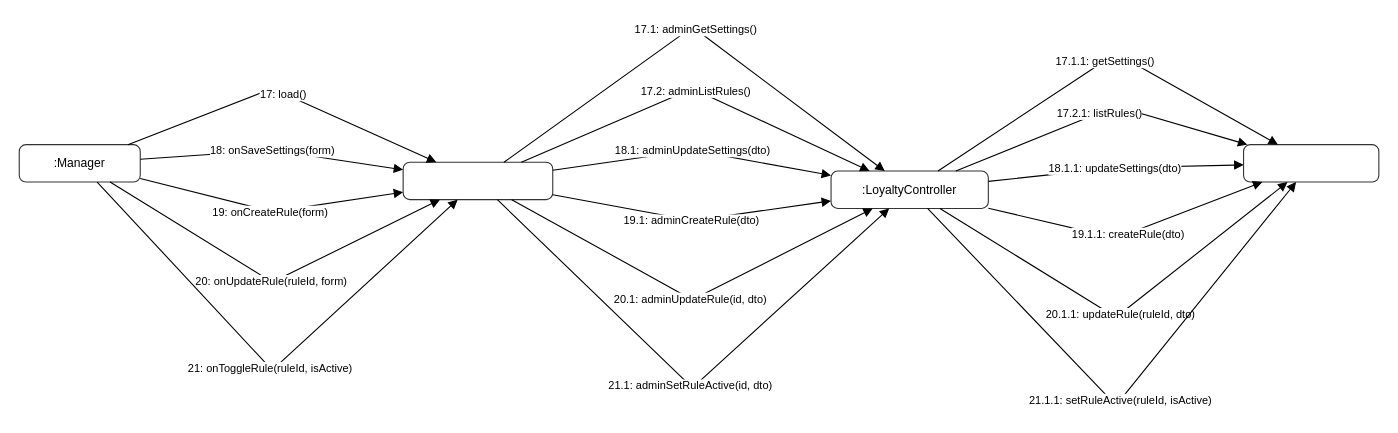
Some shapes in this 1398 by 433 pixel diagram are drawn without their labels. Here are the shapes that lost their labels. From the top down, the box of each, then its label:
(402, 161, 553, 200): :AdminLoyaltyPage
(1242, 144, 1379, 182): :LoyaltyService
